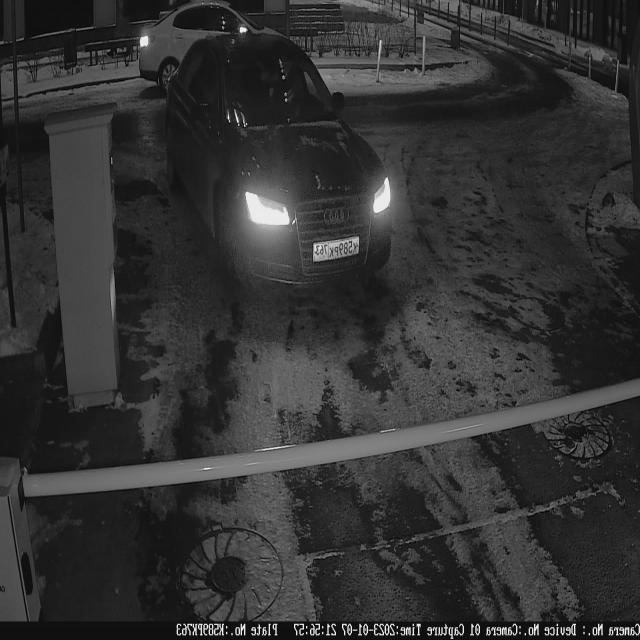car-plate-numbers: (311, 231, 366, 270)
